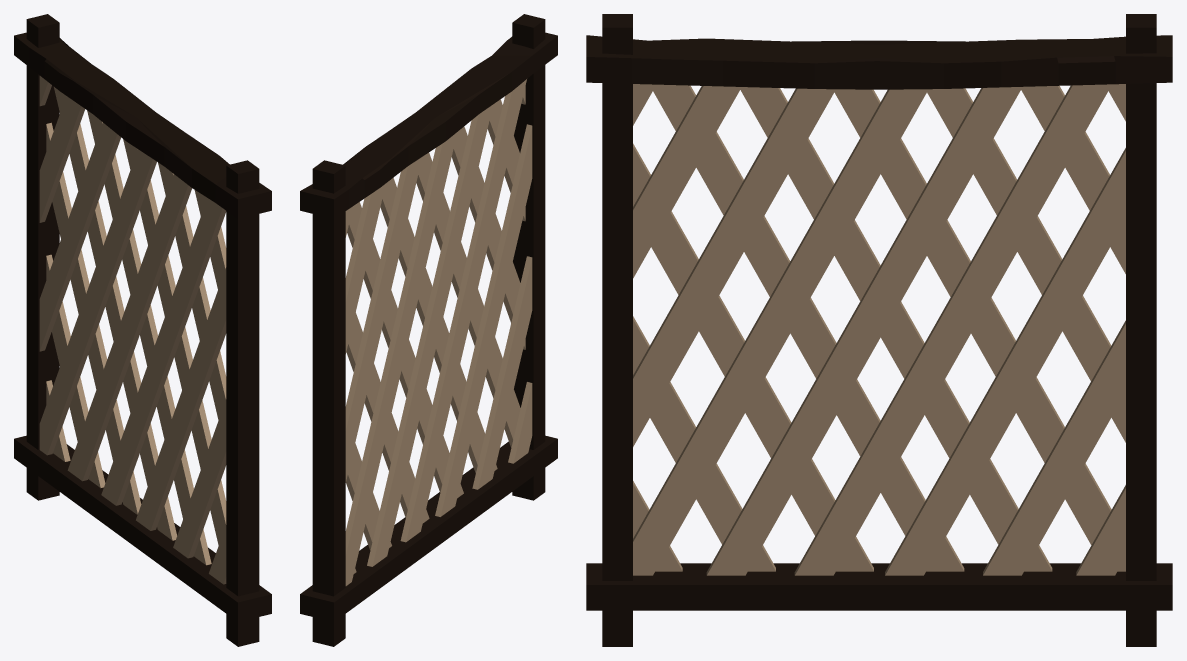
File: Fence_New_1_Gray_High.fbx
The picture shows the model from 3 angles, left to right: view 1: azimuth 30°, elevation 25°; view 2: azimuth 150°, elevation 25°; view 3: azimuth 270°, elevation 25°; orthographic projection. The views are drawn at different scales.
Parts seen in each view (by area): view 1: Cube.050, Cube.041, Cube.045, Cube.042, Cube.043; view 2: Cube.050, Cube.042, Cube.045, Cube.041, Cube.043; view 3: Cube.050, Cube.045, Cube.043, Cube.041, Cube.042.
Boxes of the visible parts, x1,y1,x2,y2 form: Cube.050: (39,76,226,584); Cube.041: (226,160,259,646); Cube.045: (14,32,271,218); Cube.042: (26,14,59,500); Cube.043: (14,435,271,621); Cube.050: (345,79,532,585); Cube.042: (312,160,345,646); Cube.045: (300,32,557,218); Cube.041: (512,14,545,500); Cube.043: (300,435,557,621); Cube.050: (633,84,1125,575); Cube.045: (586,35,1172,89); Cube.043: (586,563,1172,610); Cube.041: (602,14,632,646); Cube.042: (1126,14,1156,646).
Bounding box in the file's own units: 9.69 × 129 × 110.
